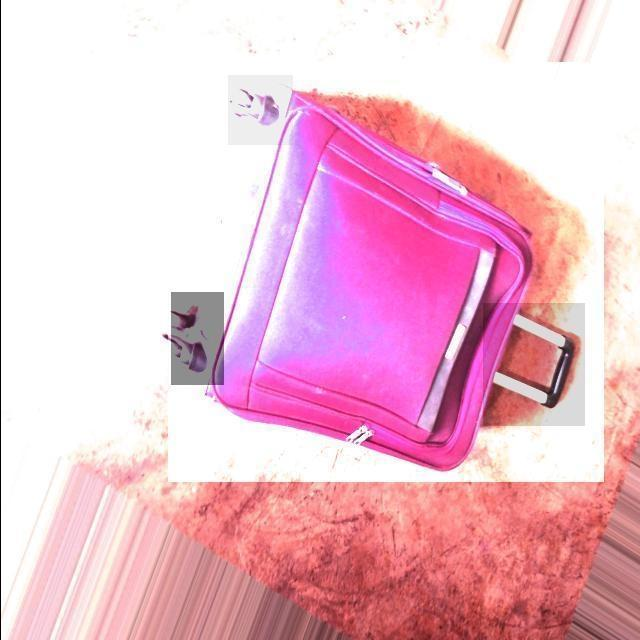Suitcase: (169, 71, 602, 477)
